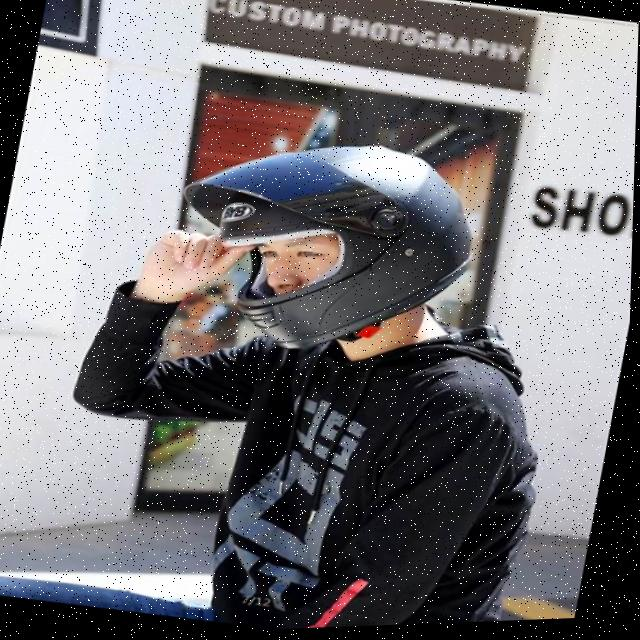helmet: (152, 108, 505, 390)
